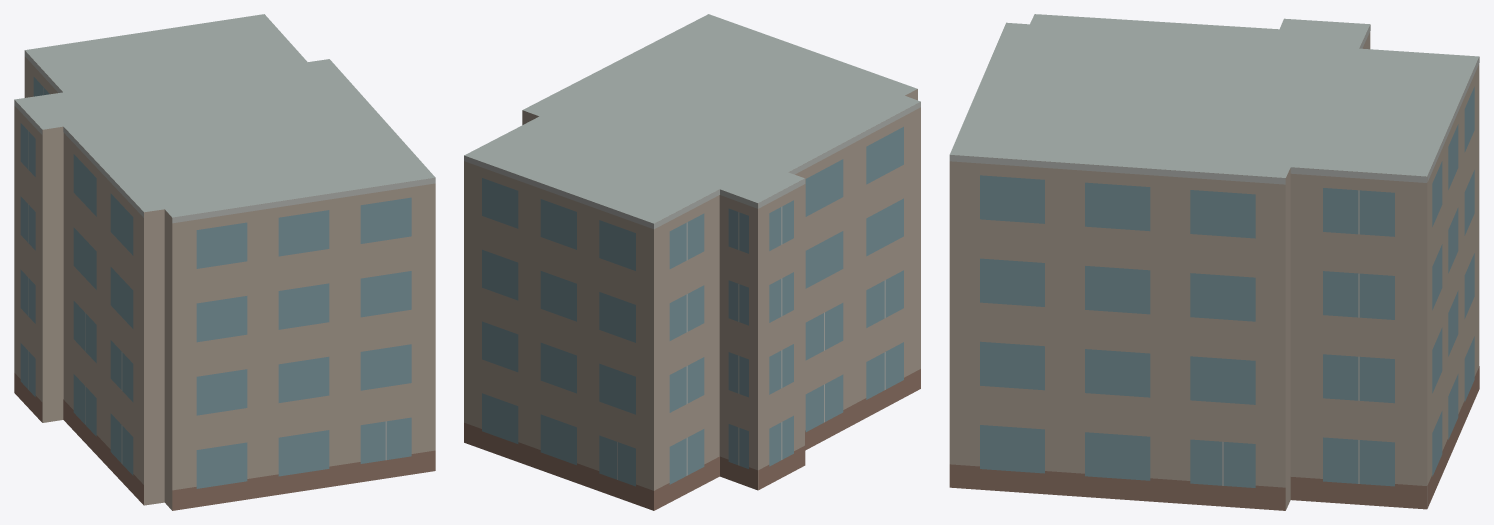
File: survey-upis-32918671.glb
The picture shows the model from 3 angles, left to right: view 1: azimuth 30°, elevation 25°; view 2: azimuth 150°, elevation 25°; view 3: azimuth 270°, elevation 25°; orthographic projection. The views are drawn at different scales.
Parts seen in each view (by area): view 1: survey-upis-32918671.tmp; view 2: survey-upis-32918671.tmp; view 3: survey-upis-32918671.tmp.
Part boxes in pixels (left/top/right/bottom): survey-upis-32918671.tmp: left=14, top=14, right=435, bottom=510; survey-upis-32918671.tmp: left=464, top=14, right=920, bottom=510; survey-upis-32918671.tmp: left=949, top=14, right=1479, bottom=510.
Bounding box in the file's own units: 13.12 × 12.4 × 17.9.
